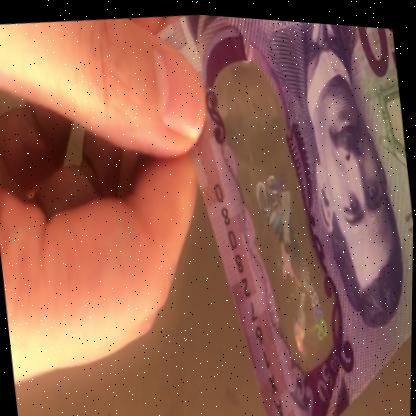50F: (230, 64, 335, 357)
